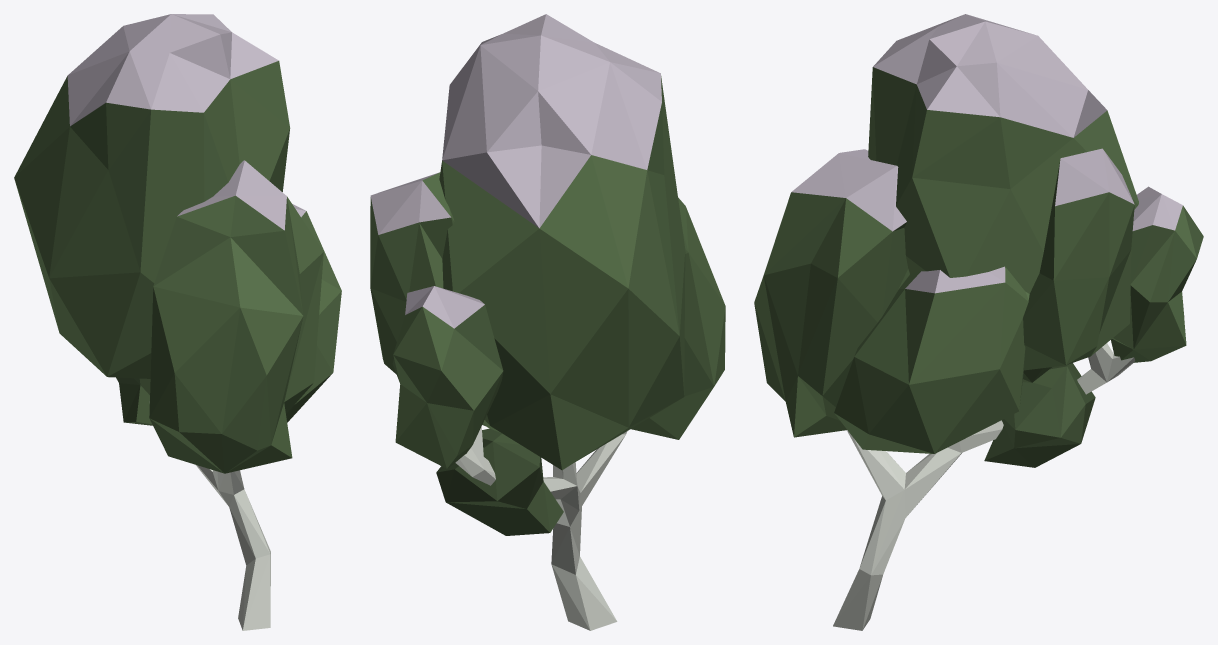
File: BirchTree_Snow_1.lod2.glb
3 views of the same model, side by side, from view 1: azimuth 30°, elevation 25°; view 2: azimuth 150°, elevation 25°; view 3: azimuth 270°, elevation 25° (orthographic). The views are drawn at different scales.
Parts seen in each view (by area): view 1: BirchTree_Snow_1; view 2: BirchTree_Snow_1; view 3: BirchTree_Snow_1.
Boxes of the visible parts, bbox=[...] form: BirchTree_Snow_1: bbox=[14, 14, 341, 630]; BirchTree_Snow_1: bbox=[370, 14, 725, 630]; BirchTree_Snow_1: bbox=[754, 14, 1203, 630].
Bounding box in the file's own units: 1.7 × 3.6 × 2.48.
